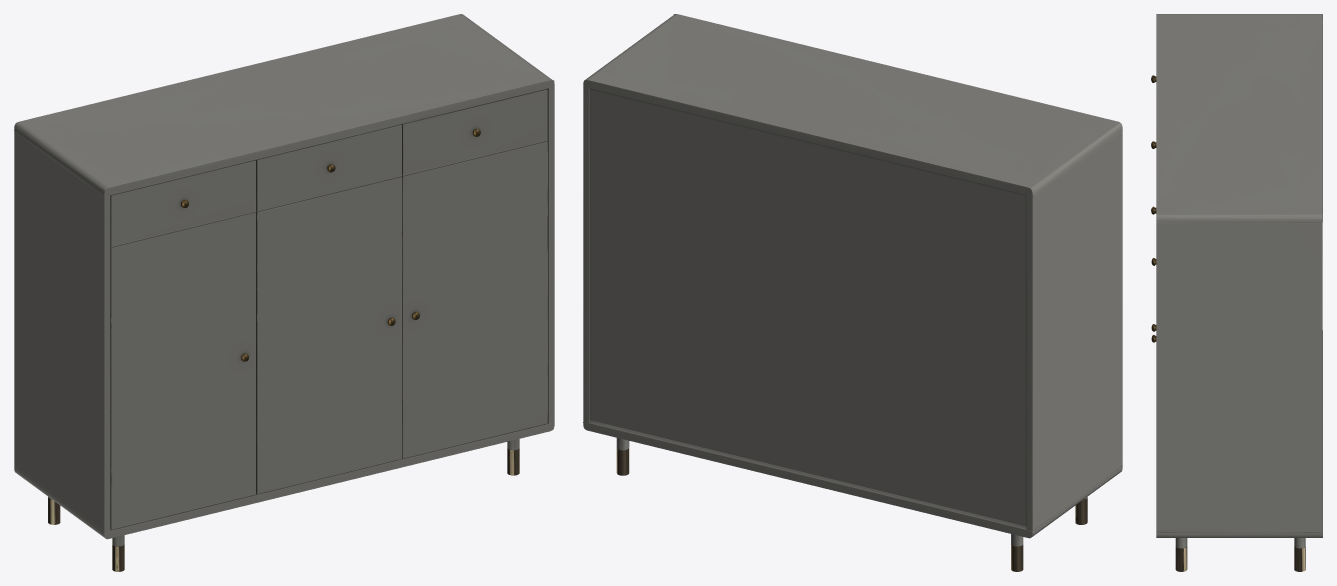
Rendered from raw_model.obj.
3 views of the same model, side by side, from view 1: azimuth 30°, elevation 25°; view 2: azimuth 150°, elevation 25°; view 3: azimuth 270°, elevation 25° (orthographic). The views are drawn at different scales.
Parts seen in each view (by area): view 1: solid_001, solid_002; view 2: solid_001, solid_002; view 3: solid_001, solid_002, solid_003.
Boxes of the visible parts, box(x1,y1,x2,y2) form: solid_001: box(14, 14, 554, 546); solid_002: box(48, 448, 519, 571); solid_001: box(583, 14, 1122, 546); solid_002: box(616, 448, 1087, 571); solid_001: box(1156, 14, 1322, 548); solid_002: box(1175, 546, 1305, 571); solid_003: box(1151, 75, 1156, 342).
Bounding box in the file's own units: 1.21 × 1.02 × 0.433.
Materials: 1 (1 with a texture image).
